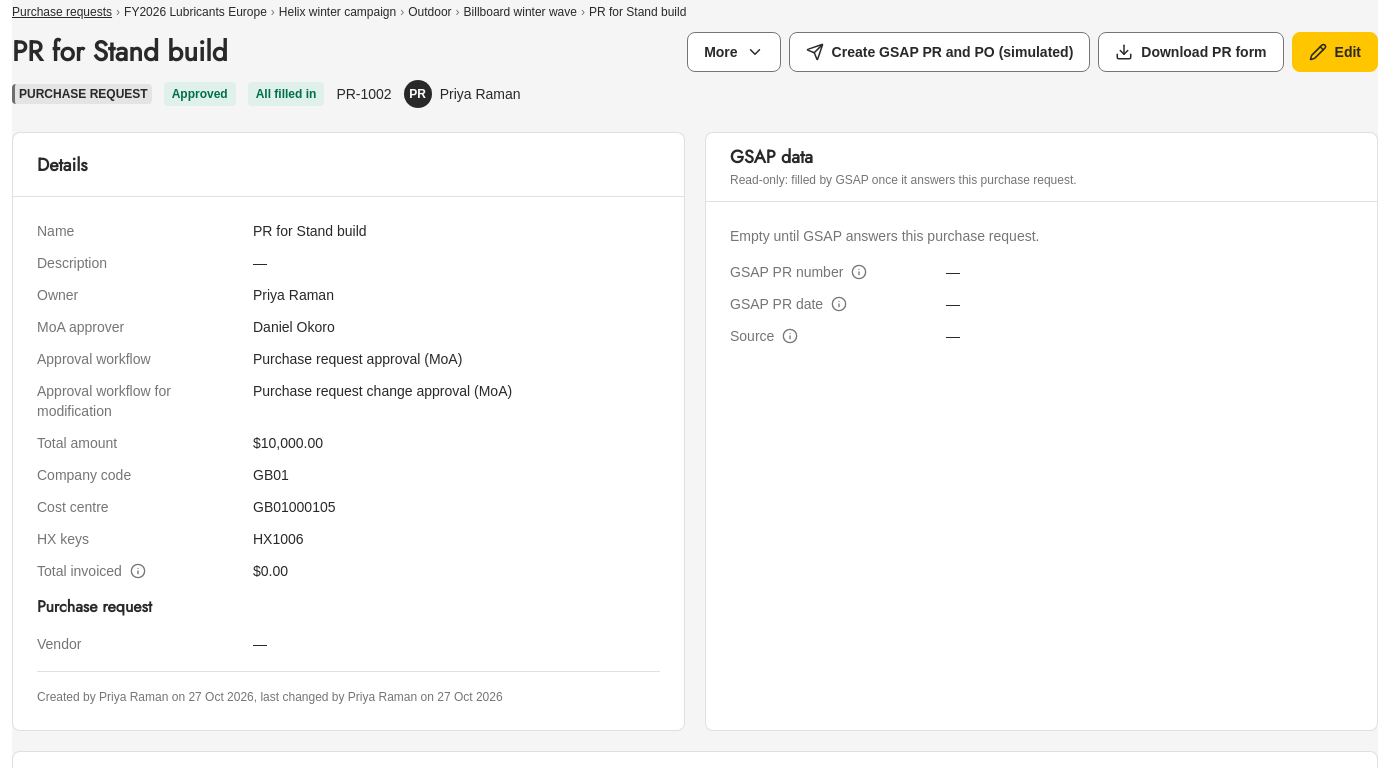
Scenario: 032 FR-008/FR-009/FR-020/FR-052: purchase request page › explains why an approved purchase request cannot be deleted (US5 sc.8)
This screenshot has width=1378, height=768.
Click the button "More".
click(734, 52)  # box [687,32,781,72]
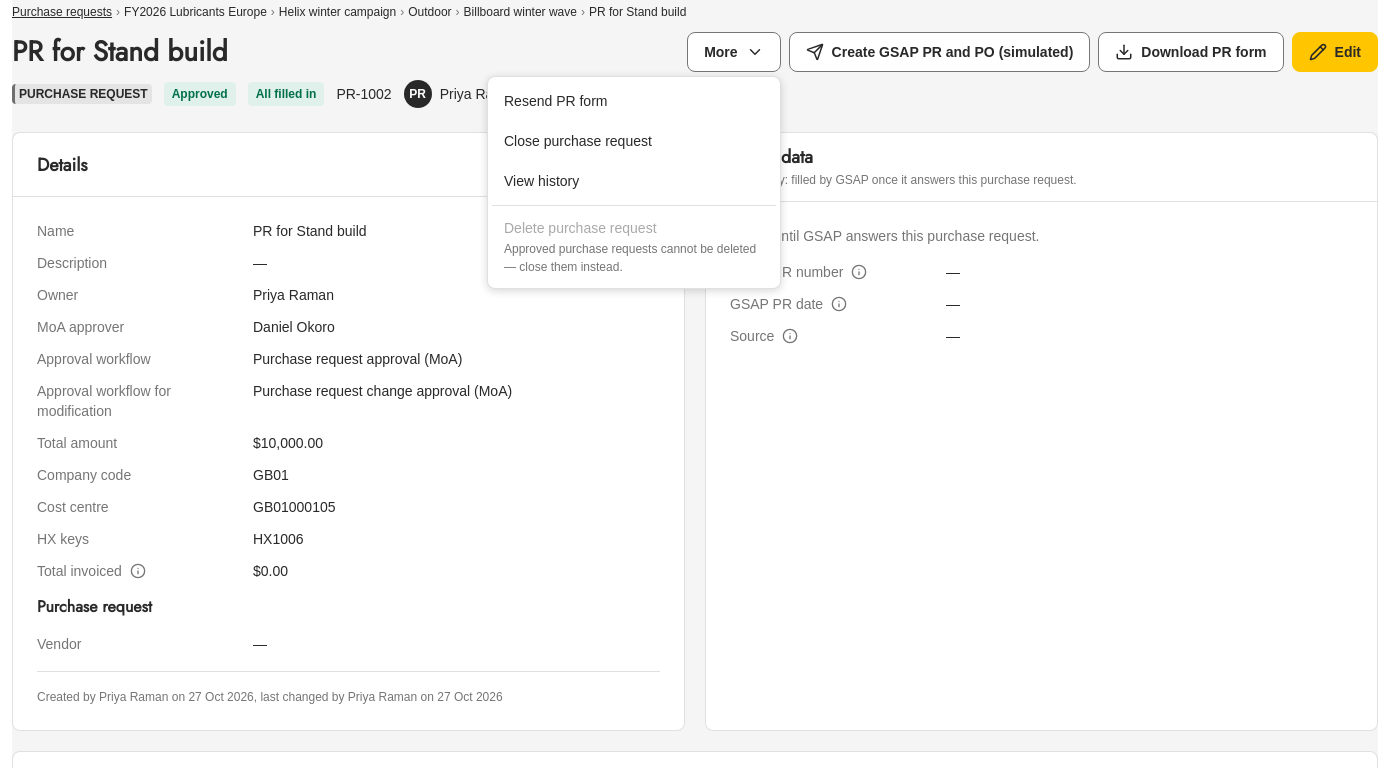
expect the menu item "Delete purchase request" shows "Approved purchase requests cannot be deleted — close them instead.": met, box [492,210,776,284]
expect the menu item "Close purchase request" is shown: met, box [504,133,652,149]
